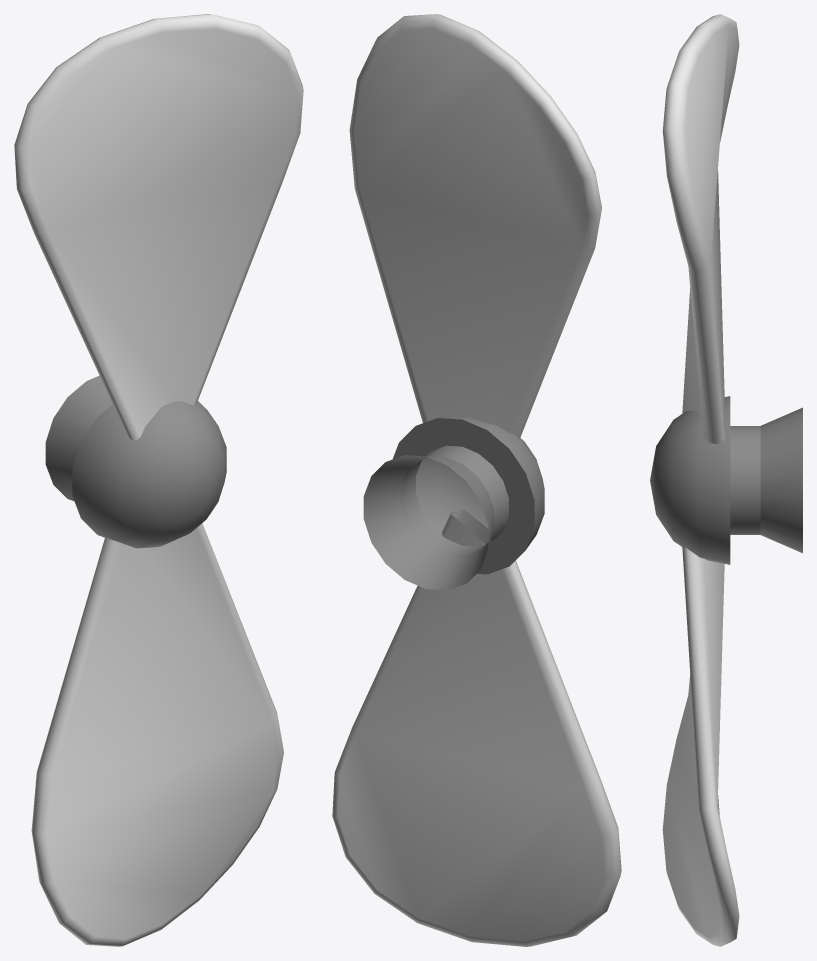
File: propeller_metal_1.fbx
3 views of the same model, side by side, from view 1: azimuth 30°, elevation 25°; view 2: azimuth 150°, elevation 25°; view 3: azimuth 270°, elevation 25° (orthographic).
Visible parts, largest first — view 1: propeller_metal_1; view 2: propeller_metal_1; view 3: propeller_metal_1.
Boxes of the visible parts, x1,y1,x2,y2 form: propeller_metal_1: [14, 14, 303, 946]; propeller_metal_1: [332, 14, 621, 946]; propeller_metal_1: [650, 14, 802, 946].
Bounding box in the file's own units: 57.37 × 188 × 28.49.
